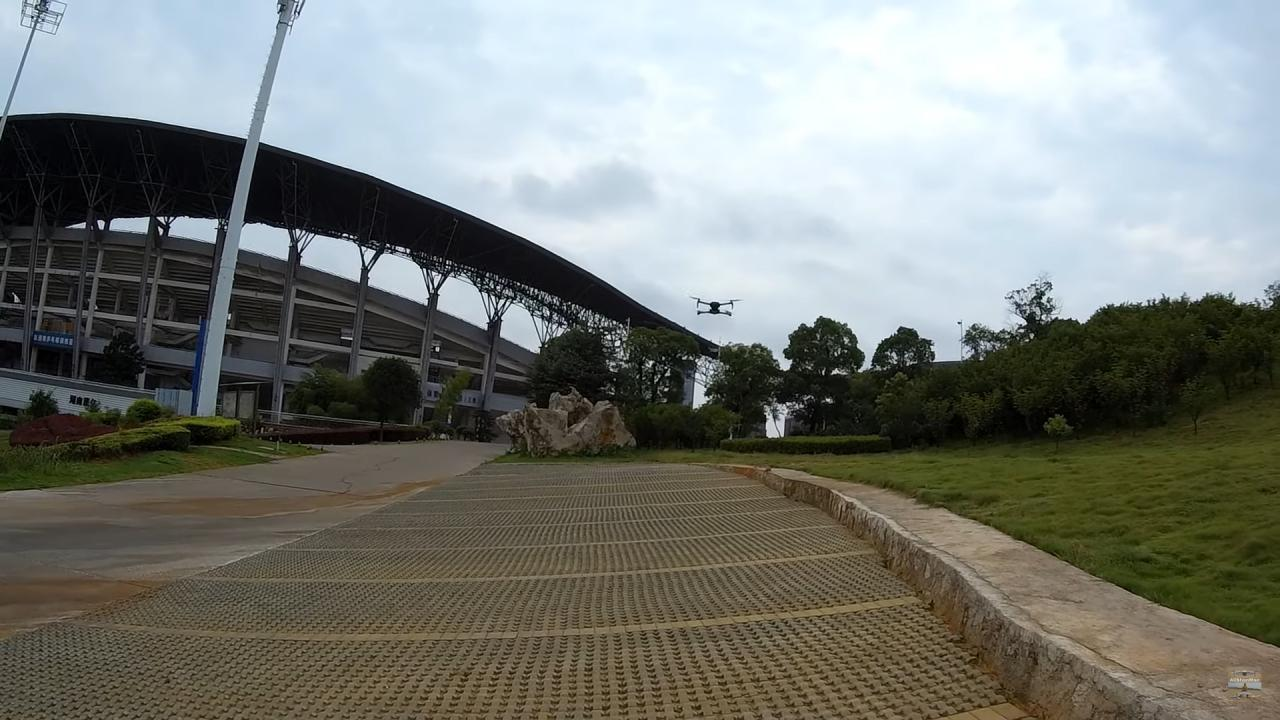Drone: (684, 289, 748, 323)
